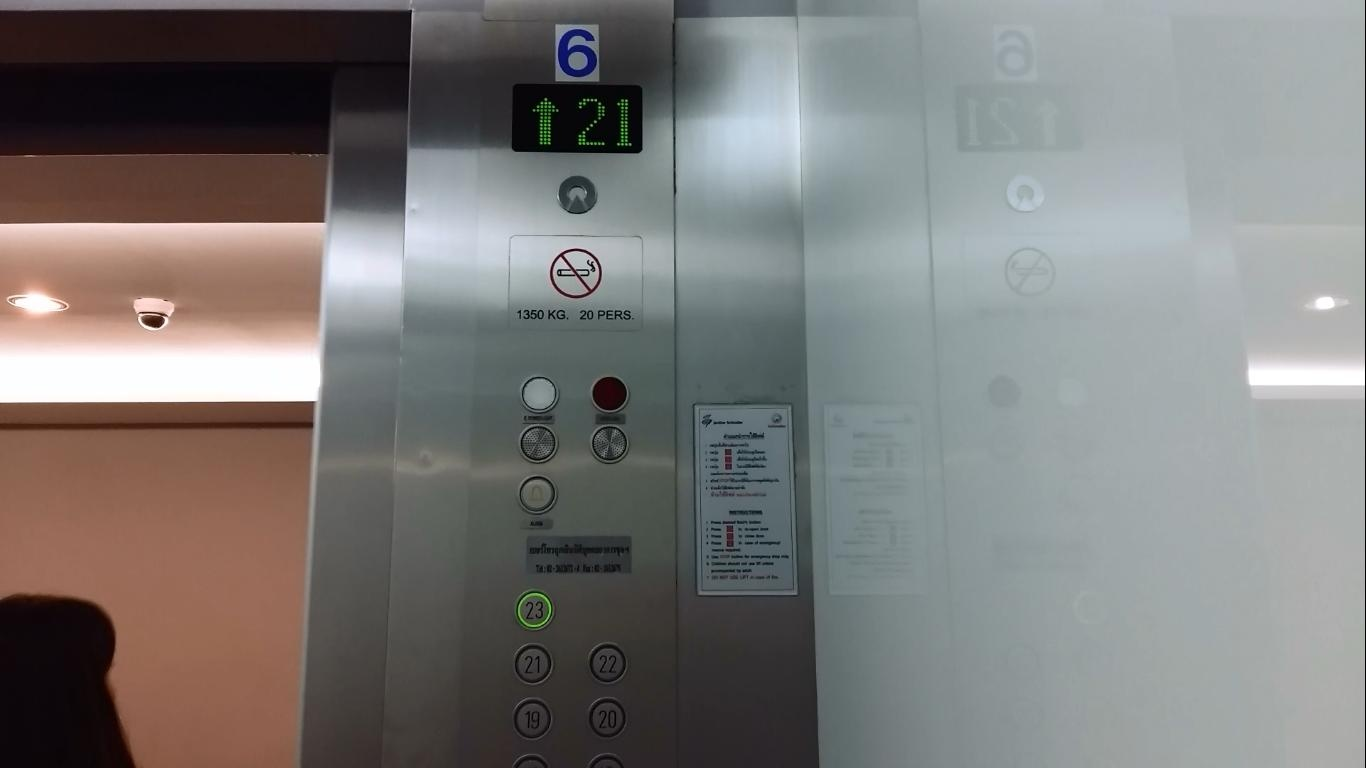19: (509, 696, 552, 742)
20: (584, 695, 627, 741)
21: (510, 642, 553, 688)
22: (585, 640, 628, 686)
23: (512, 589, 555, 631)
alarm: (516, 475, 557, 514)
empty: (518, 374, 559, 413), (588, 374, 629, 413)
led: (510, 82, 645, 155)
speaker: (517, 424, 558, 463), (588, 424, 629, 463)
unknown: (556, 175, 598, 214)
